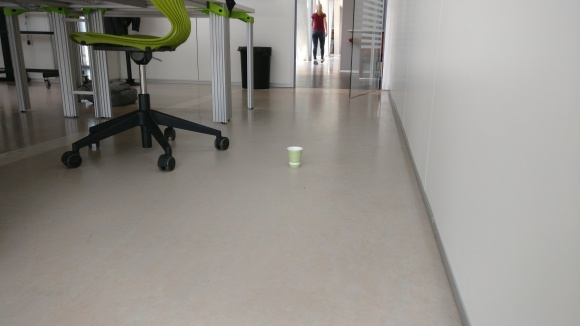cup: (286, 145, 304, 169)
